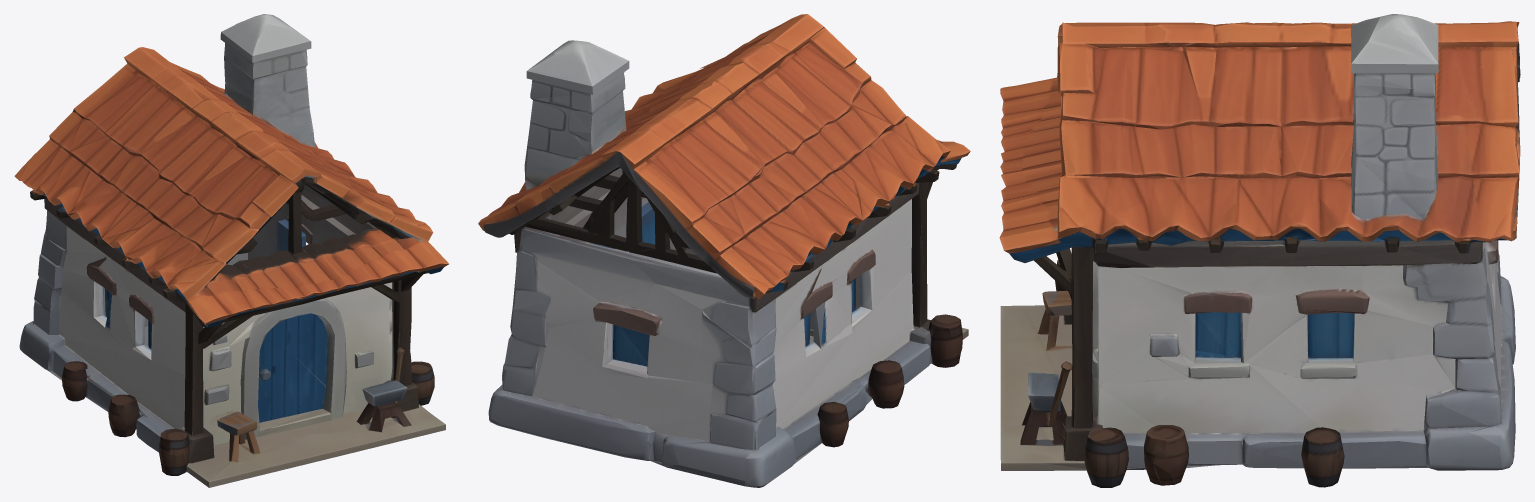
File: smithy.glb
The picture shows the model from 3 angles, left to right: view 1: azimuth 30°, elevation 25°; view 2: azimuth 150°, elevation 25°; view 3: azimuth 270°, elevation 25°; orthographic projection. The views are drawn at different scales.
Parts seen in each view (by area): view 1: smithy; view 2: smithy; view 3: smithy.
Boxes of the visible parts, bbox=[...] form: smithy: bbox=[14, 14, 448, 487]; smithy: bbox=[478, 14, 970, 487]; smithy: bbox=[999, 14, 1520, 487].
Size of the model in its own units: 5.56 by 6 by 6.52.
Materials: 1 (1 with a texture image).
